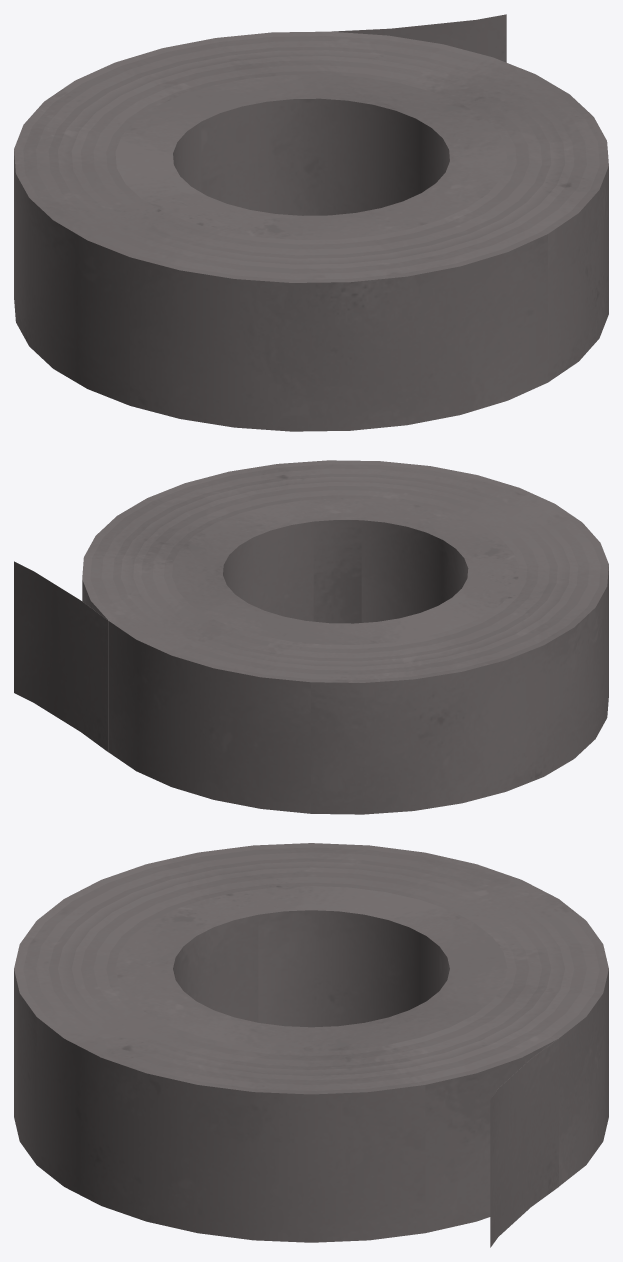
The model's file is tape.fbx.
3 views of the same model, one above another, from view 1: azimuth 30°, elevation 25°; view 2: azimuth 150°, elevation 25°; view 3: azimuth 270°, elevation 25° (orthographic). The views are drawn at different scales.
Visible parts, largest first — view 1: Circle.002; view 2: Circle.002; view 3: Circle.002.
Boxes of the visible parts, <box> form: Circle.002: <box>14,14,608,431</box>; Circle.002: <box>14,460,608,814</box>; Circle.002: <box>14,843,608,1247</box>.
Bounding box in the file's own units: 0.4936 × 0.1359 × 0.4694.
